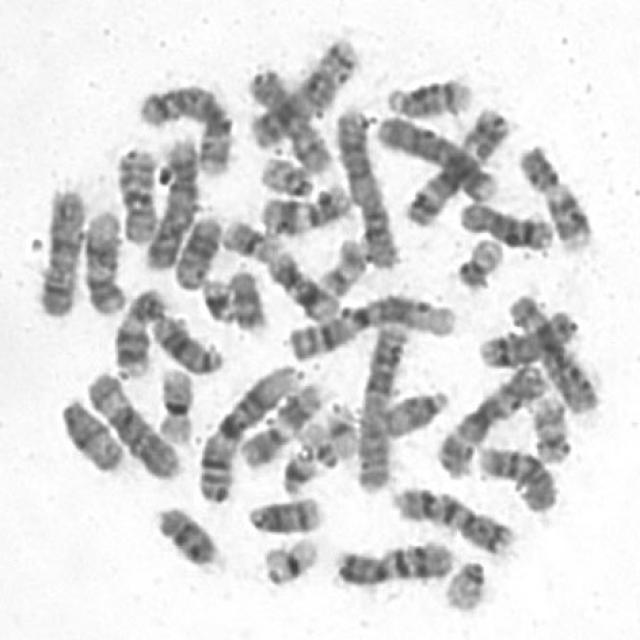A1: (190, 355, 305, 505), (279, 285, 460, 363)
A2: (327, 97, 402, 269), (349, 313, 412, 495)
A3: (396, 100, 514, 228), (429, 355, 549, 480)
B4: (368, 105, 500, 204), (136, 128, 200, 271)
B5: (241, 28, 362, 152), (130, 74, 236, 178)
C10: (471, 436, 560, 514), (107, 137, 161, 245)
C11: (232, 372, 328, 470), (252, 174, 354, 239)
C12: (262, 243, 342, 323), (76, 200, 129, 316)
C6: (500, 284, 602, 416), (78, 364, 184, 482)
C7: (384, 478, 516, 556), (326, 532, 456, 588)
C8: (472, 300, 580, 369), (450, 191, 556, 251)
C9: (509, 135, 596, 254), (114, 285, 169, 382)
D13: (144, 306, 225, 376), (164, 205, 225, 292)
D14: (377, 68, 476, 120), (238, 487, 326, 536)
D15: (51, 389, 128, 474), (373, 380, 450, 440)
E16: (149, 358, 198, 446), (214, 212, 284, 264)
E17: (523, 386, 575, 466), (311, 228, 370, 298)
E18: (146, 497, 222, 570), (221, 261, 270, 334)
F19: (254, 526, 322, 588), (317, 396, 362, 460)
F20: (447, 229, 506, 292), (252, 147, 317, 198)
G21: (274, 444, 320, 498), (194, 270, 239, 324)
G22: (435, 552, 488, 614), (292, 414, 341, 469)
X: (239, 62, 335, 175), (30, 178, 89, 319)
